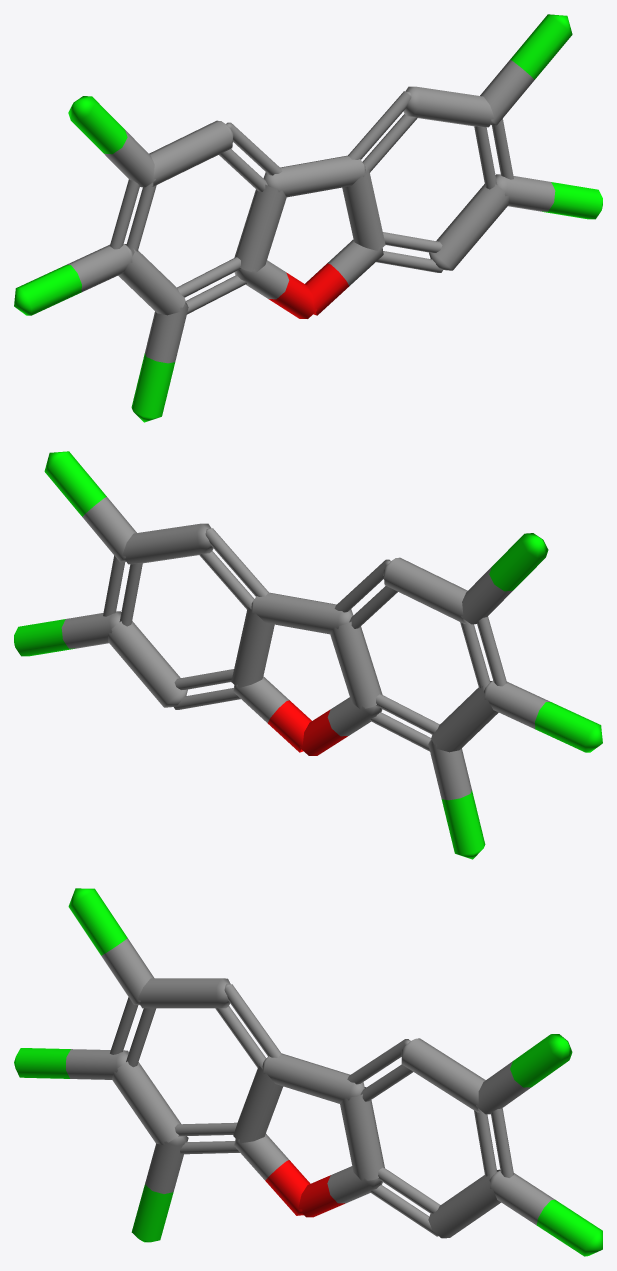
Rendered from 2pentach.glb.
3 renders of one model, top to bottom at view 1: azimuth 30°, elevation 25°; view 2: azimuth 150°, elevation 25°; view 3: azimuth 330°, elevation 25°, orthographic.
Visible parts, largest first — view 1: node-geom10; view 2: node-geom10; view 3: node-geom10.
Part boxes in pixels (<box>): node-geom10: <box>14,14,602,422</box>; node-geom10: <box>14,451,602,859</box>; node-geom10: <box>14,888,602,1256</box>.
Size of the model in its own units: 10.54 by 5.79 by 0.5036.
